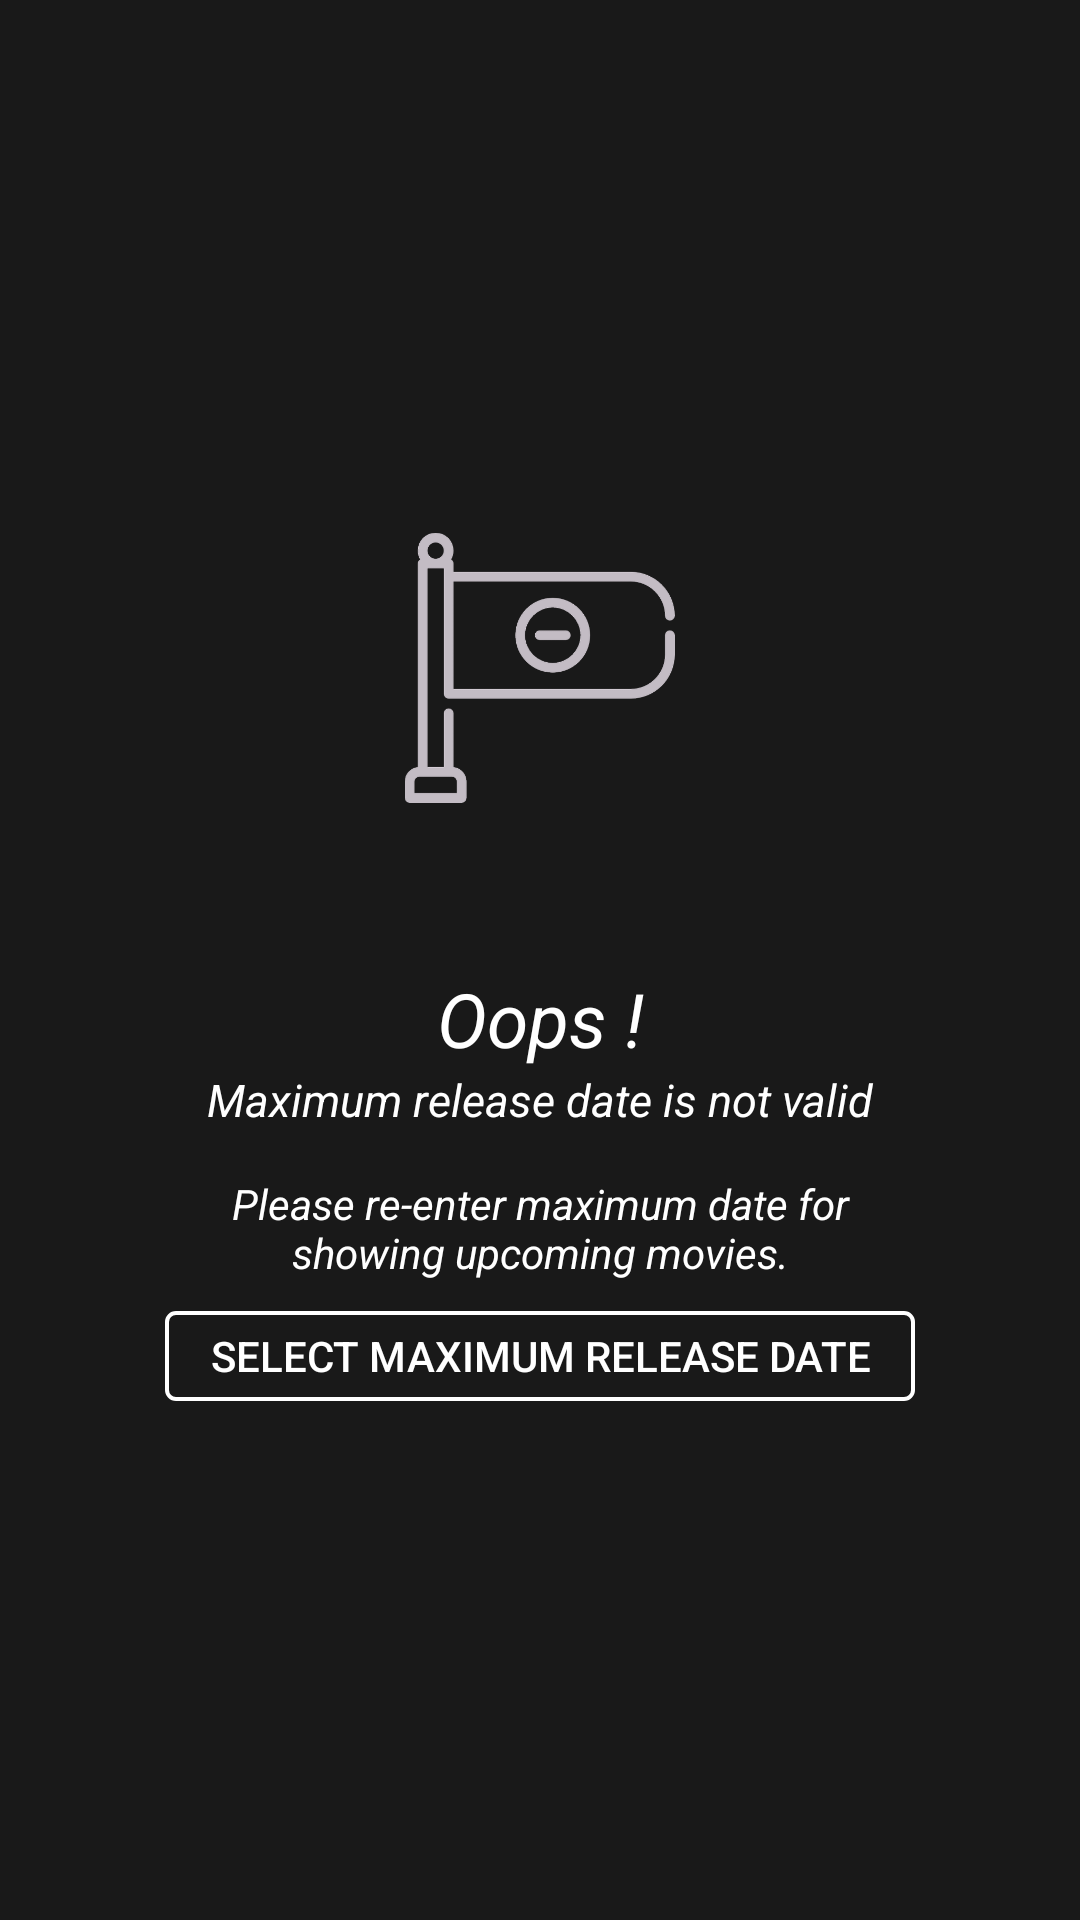

Where to tap for icons on this 1080x1920 app screen, as (x,y):
wrong way: (540,668)
